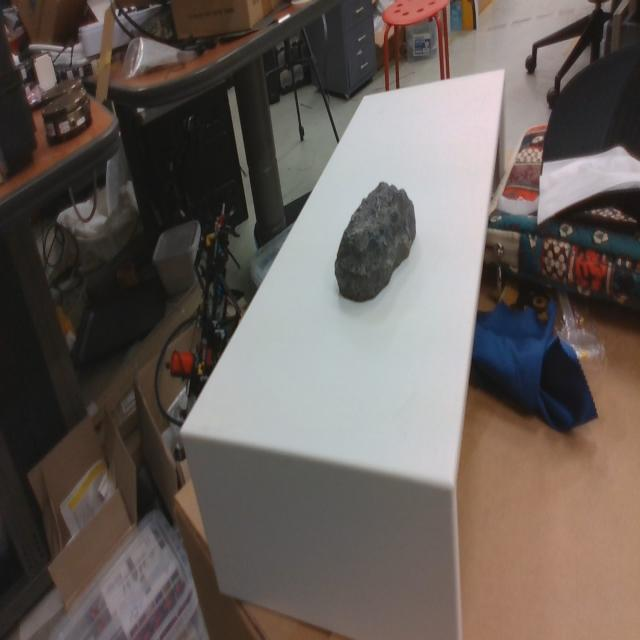stone: (335, 181, 415, 303)
